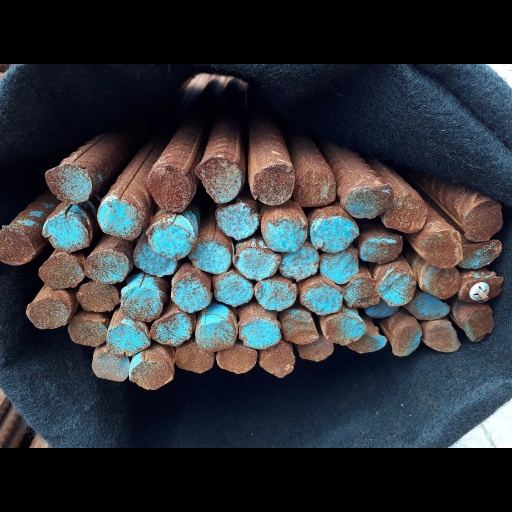dipstick: (195, 136, 248, 206), (145, 168, 190, 211), (43, 166, 93, 203), (127, 351, 174, 389), (85, 350, 133, 387), (251, 164, 295, 204), (345, 182, 393, 218), (37, 254, 86, 289), (462, 200, 503, 241), (43, 214, 89, 250), (310, 216, 358, 250), (293, 169, 337, 206), (216, 203, 258, 241), (133, 243, 177, 278), (120, 286, 163, 321), (422, 231, 463, 267), (254, 278, 300, 310), (83, 251, 130, 282), (148, 225, 192, 258), (98, 201, 137, 238), (266, 218, 307, 253), (171, 277, 211, 312), (26, 297, 69, 329), (383, 198, 423, 232), (279, 245, 320, 278), (457, 240, 503, 269), (376, 272, 414, 307), (76, 281, 120, 311), (189, 241, 230, 273), (235, 248, 280, 277), (149, 314, 191, 345), (319, 250, 357, 284), (258, 343, 296, 377), (196, 321, 237, 352), (325, 315, 370, 343), (238, 317, 280, 347), (215, 274, 254, 306), (2, 228, 34, 267), (215, 345, 258, 374), (67, 316, 107, 347), (174, 344, 215, 373), (107, 325, 149, 353), (341, 277, 380, 307), (302, 284, 342, 313), (424, 267, 461, 298), (281, 308, 319, 338), (460, 276, 502, 303), (423, 323, 460, 353), (409, 292, 450, 319), (173, 281, 201, 317), (391, 325, 423, 356), (297, 338, 334, 362), (348, 331, 386, 354), (467, 307, 493, 340)
